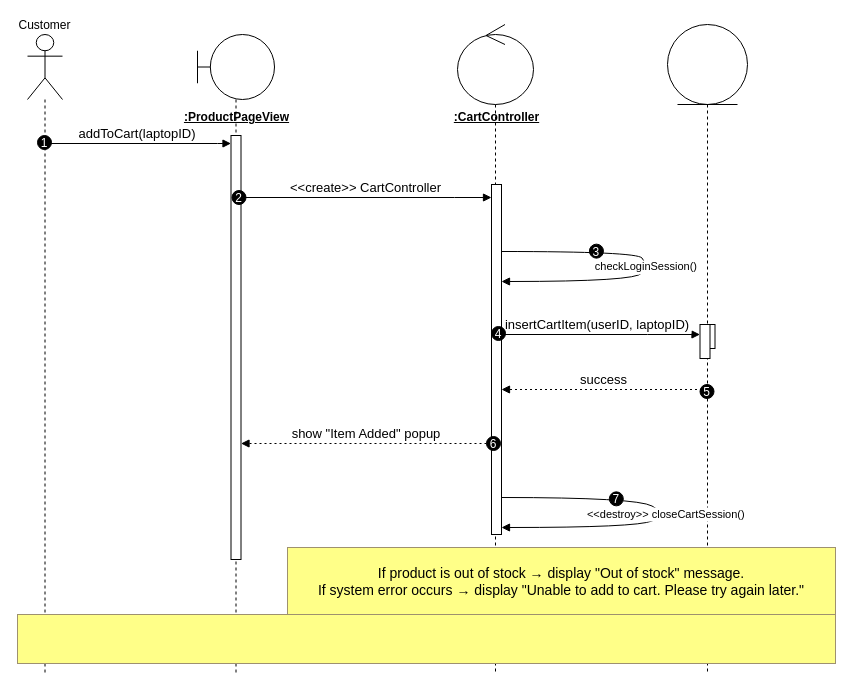
Image size: 853x692. Some labels were removed from this diagram. Here are the shapes that lost their labels. From the top down, the box of each, then its label:
(666, 24, 748, 674): :Carts
(16, 614, 836, 664): Selected laptop is successfully added to the customer's cart.
